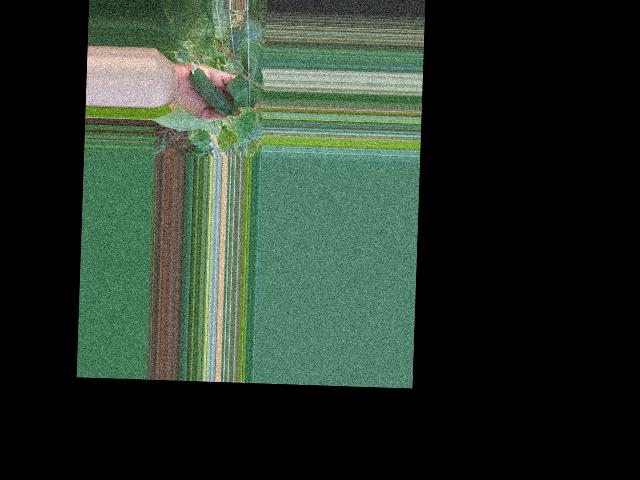cucumber: (187, 60, 236, 115)
